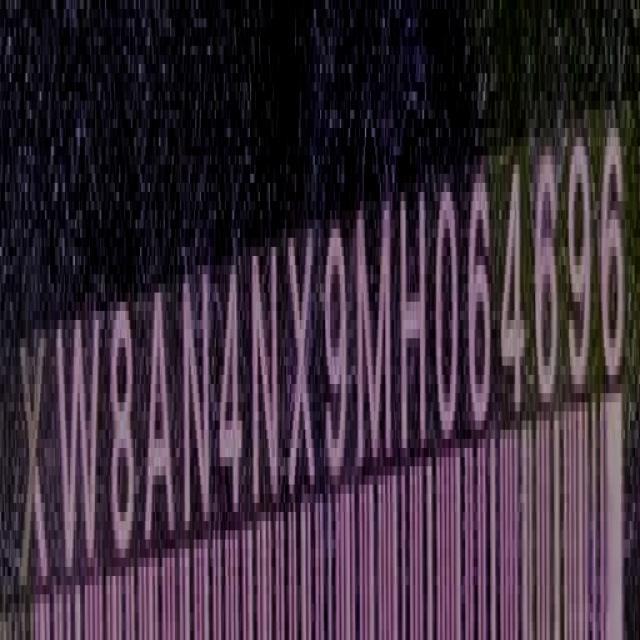0: (434, 172, 460, 446)
4: (500, 154, 529, 425), (215, 248, 243, 525)
6: (601, 120, 627, 384), (465, 163, 490, 435), (536, 142, 559, 406)
8: (111, 302, 137, 564)
9: (322, 211, 348, 493), (567, 134, 594, 398)
A: (141, 281, 173, 553)
H: (400, 179, 428, 462)
M: (354, 192, 392, 473)
N: (182, 264, 212, 540), (251, 239, 279, 517)
W: (55, 299, 101, 571)
X: (288, 222, 318, 503), (20, 324, 48, 598)
